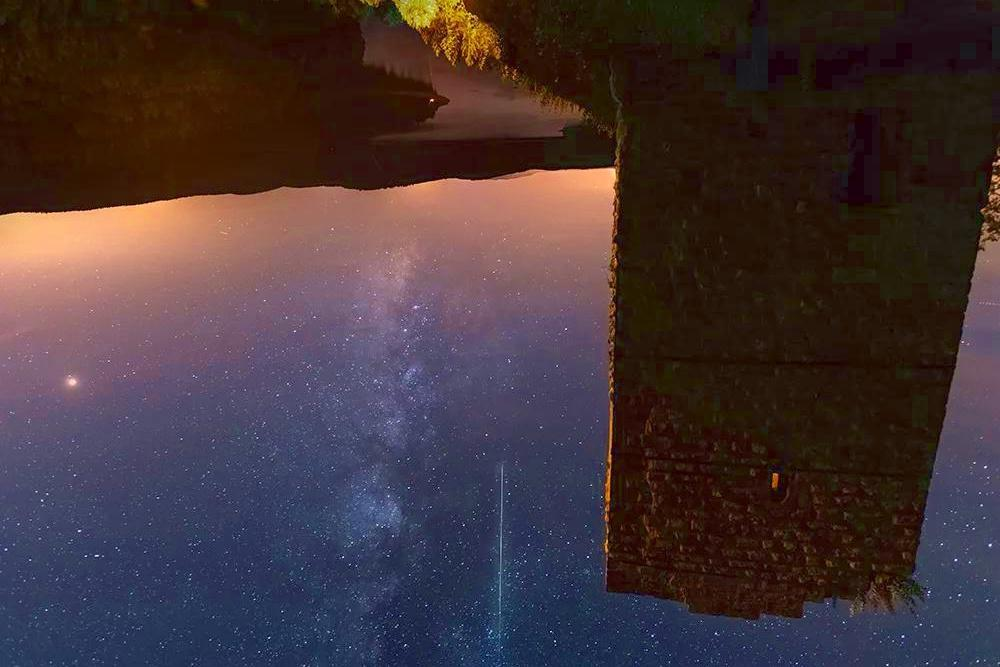meteorite: (477, 447, 515, 664)
